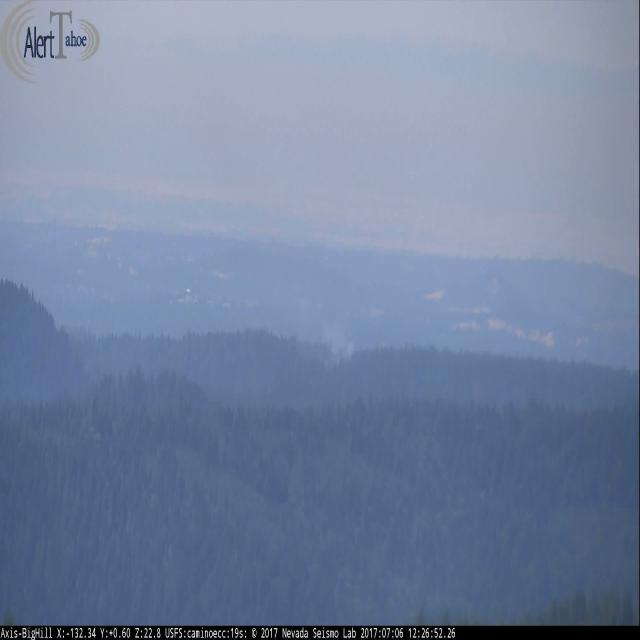smoke: (329, 316, 358, 374)
